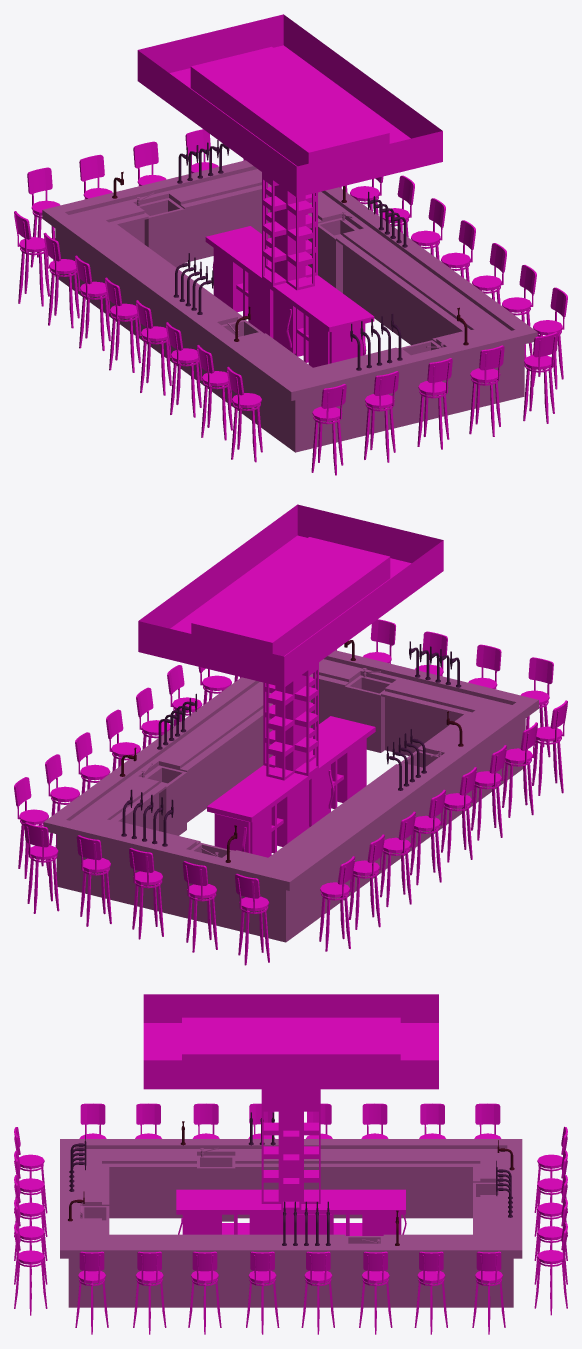
The model's file is Rest_Bar_v02.fbx.
3 renders of one model, top to bottom at view 1: azimuth 30°, elevation 25°; view 2: azimuth 150°, elevation 25°; view 3: azimuth 270°, elevation 25°, orthographic. The views are drawn at different scales.
Visible parts, largest first — view 1: Rest_Bar_Set01_CenterCeiling, Rest_Bar_Set02_Counter, Rest_Bar_Set02_CounterBottom, Rest_Bar_Set01_CenterCounter, Rest_Bar_Set01_MiniFridge_Inner (×3), Rest_Bar_Set02_CounterBumper, Rest_Bar_Set01_MiniFridge_Door (×2), Rest_Bar_Set01_LiquorHolder_04 (×3), Rest_Bar_Set01_BarStool_Back (×3), Rest_Bar_Set01_LiquorHolder_01 (×2), Rest_Bar, Rest_Bar_Set01_LiquorHolder_Top; view 2: Rest_Bar_Set01_CenterCeiling, Rest_Bar_Set02_Counter, Rest_Bar_Set02_CounterBottom, Rest_Bar_Set01_CenterCounter, Rest_Bar_Set01_MiniFridge_Inner (×3), Rest_Bar_Set02_CounterBumper, Rest_Bar_Set01_MiniFridge_Door (×2), Rest_Bar_Set01_LiquorHolder_03 (×3), Rest_Bar_Set01_LiquorHolder_01 (×3), Rest_Bar_Set01_BarStool_Back (×2), Rest_Bar; view 3: Rest_Bar_Set01_CenterCeiling, Rest_Bar_Set02_CounterBottom, Rest_Bar_Set02_Counter, Rest_Bar_Set01_BarStool_Back (×14), Rest_Bar_Set01_CenterCounter, Rest_Bar_Set02_CounterBumper, Rest_Bar_Set01_MiniFridge_Inner (×3), Rest_Bar_Set01_LiquorHolder_Top, Rest_Bar_Set01_LiquorHolder_02 (×4), Rest_Bar, Rest_Bar_Set01_MiniFridge_Door, Rest_Bar_Set02_Sink_01.
Part boxes in pixels (left/top/right/bottom): Rest_Bar_Set01_CenterCeiling: left=137, top=14, right=442, bottom=197; Rest_Bar_Set02_Counter: left=42, top=160, right=537, bottom=400; Rest_Bar_Set02_CounterBottom: left=55, top=191, right=524, bottom=452; Rest_Bar_Set01_CenterCounter: left=205, top=226, right=374, bottom=332; Rest_Bar_Set01_MiniFridge_Inner (×3): left=213, top=248, right=329, bottom=367; Rest_Bar_Set02_CounterBumper: left=109, top=183, right=470, bottom=369; Rest_Bar_Set01_MiniFridge_Door (×2): left=273, top=291, right=365, bottom=363; Rest_Bar_Set01_LiquorHolder_04 (×3): left=286, top=206, right=314, bottom=290; Rest_Bar_Set01_BarStool_Back (×3): left=27, top=141, right=158, bottom=194; Rest_Bar_Set01_LiquorHolder_01 (×2): left=262, top=202, right=286, bottom=285; Rest_Bar: left=236, top=269, right=308, bottom=362; Rest_Bar_Set01_LiquorHolder_Top: left=262, top=86, right=317, bottom=183; Rest_Bar_Set01_CenterCeiling: left=138, top=504, right=443, bottom=687; Rest_Bar_Set02_Counter: left=43, top=650, right=538, bottom=890; Rest_Bar_Set02_CounterBottom: left=56, top=680, right=525, bottom=942; Rest_Bar_Set01_CenterCounter: left=207, top=716, right=375, bottom=822; Rest_Bar_Set01_MiniFridge_Inner (×3): left=214, top=738, right=366, bottom=857; Rest_Bar_Set02_CounterBumper: left=110, top=673, right=471, bottom=859; Rest_Bar_Set01_MiniFridge_Door (×2): left=215, top=765, right=330, bottom=853; Rest_Bar_Set01_LiquorHolder_03 (×3): left=266, top=697, right=294, bottom=780; Rest_Bar_Set01_LiquorHolder_01 (×3): left=294, top=692, right=318, bottom=775; Rest_Bar_Set01_BarStool_Back (×2): left=476, top=644, right=553, bottom=683; Rest_Bar: left=271, top=760, right=343, bottom=853; Rest_Bar_Set01_CenterCeiling: left=143, top=994, right=438, bottom=1089; Rest_Bar_Set02_CounterBottom: left=68, top=1169, right=513, bottom=1307; Rest_Bar_Set02_Counter: left=60, top=1139, right=522, bottom=1258; Rest_Bar_Set01_BarStool_Back (×14): left=79, top=1103, right=501, bottom=1271; Rest_Bar_Set01_CenterCounter: left=176, top=1189, right=405, bottom=1214; Rest_Bar_Set02_CounterBumper: left=102, top=1163, right=480, bottom=1235; Rest_Bar_Set01_MiniFridge_Inner (×3): left=186, top=1214, right=398, bottom=1235; Rest_Bar_Set01_LiquorHolder_Top: left=261, top=1025, right=320, bottom=1115; Rest_Bar_Set01_LiquorHolder_02 (×4): left=281, top=1115, right=301, bottom=1209; Rest_Bar: left=222, top=1214, right=362, bottom=1235; Rest_Bar_Set01_MiniFridge_Door: left=296, top=1214, right=331, bottom=1234; Rest_Bar_Set02_Sink_01: left=197, top=1155, right=235, bottom=1168.
Bounding box in the file's own units: 211 × 152 × 329.
